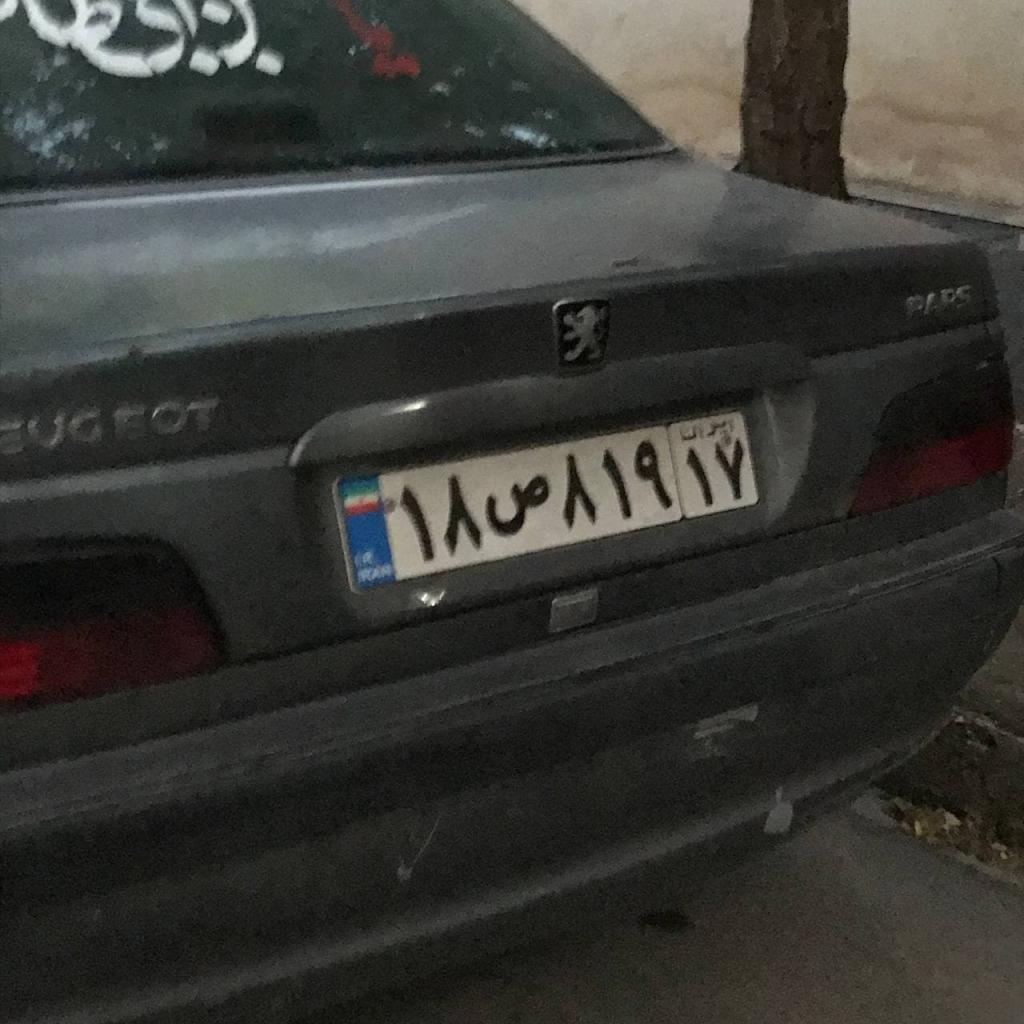Plates: (335, 408, 760, 590)
